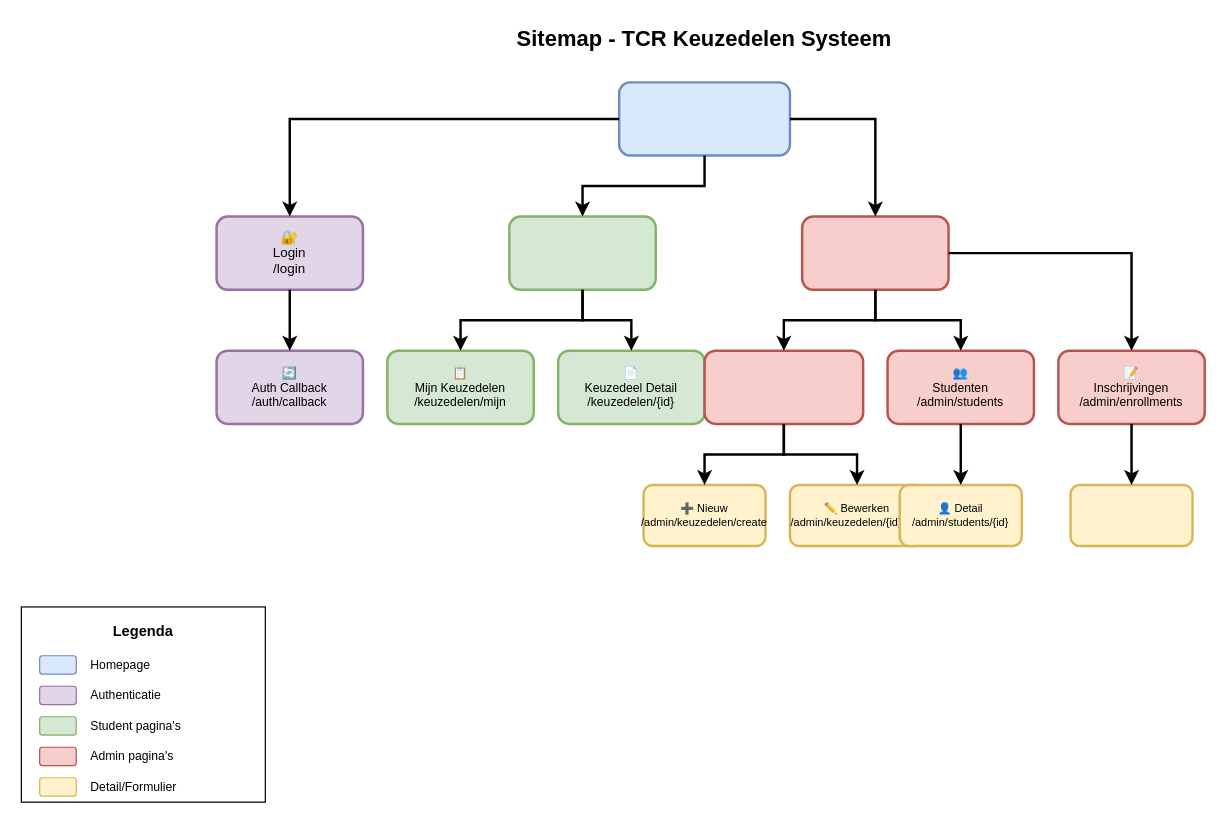
Image size: 1227x824. Some labels were removed from this diagram. Here are the shapes that lost their labels. From the top down, the centre of each, then its label:
At [704,118]: "🏠 Home /".
At [582,252]: "📚 Keuzedelen /keuzedelen".
At [874,252]: "⚙️ Admin /admin".
At [783,387]: "📚 Keuzedelen Beheer /admin/keuzedelen".
At [1131,515]: "📝 Detail /admin/enrollments/{id}".
